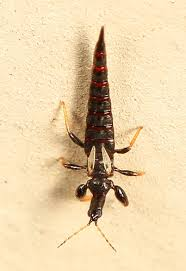Phlaeothripidae: (56, 24, 145, 251)
